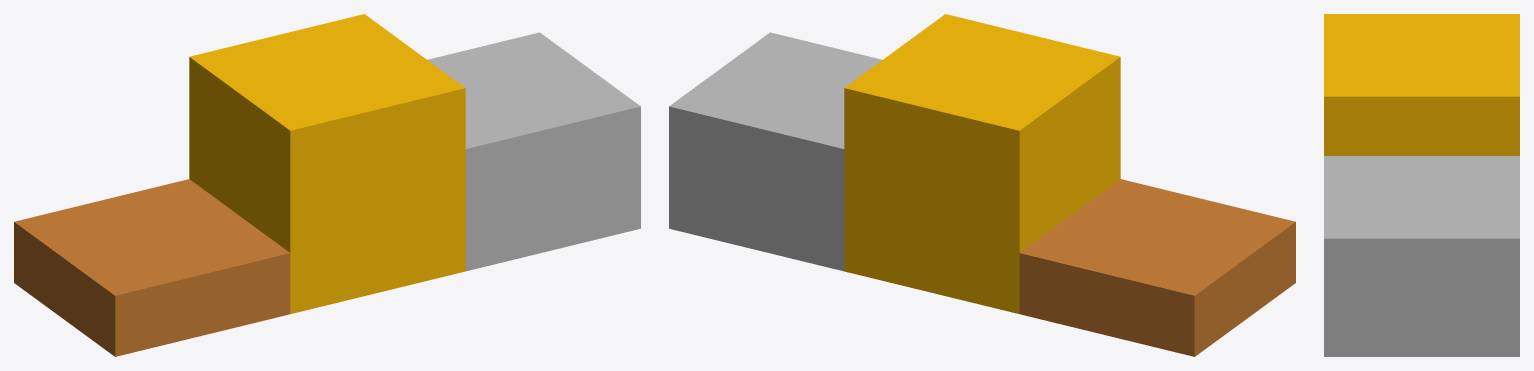
The model's file is podium.glb.
3 views of the same model, side by side, from view 1: azimuth 30°, elevation 25°; view 2: azimuth 150°, elevation 25°; view 3: azimuth 270°, elevation 25° (orthographic). The views are drawn at different scales.
Visible parts, largest first — view 1: Cube, Cube.001, Cube.002; view 2: Cube, Cube.001, Cube.002; view 3: Cube.001, Cube.
Boxes of the visible parts, x1,y1,x2,y2 form: Cube: [189, 14, 465, 313]; Cube.001: [427, 32, 640, 271]; Cube.002: [14, 179, 290, 356]; Cube: [844, 14, 1120, 313]; Cube.001: [669, 32, 882, 271]; Cube.002: [1019, 179, 1295, 356]; Cube.001: [1324, 156, 1519, 356]; Cube: [1324, 14, 1519, 155].
Size of the model in its own units: 3 by 1 by 1.
